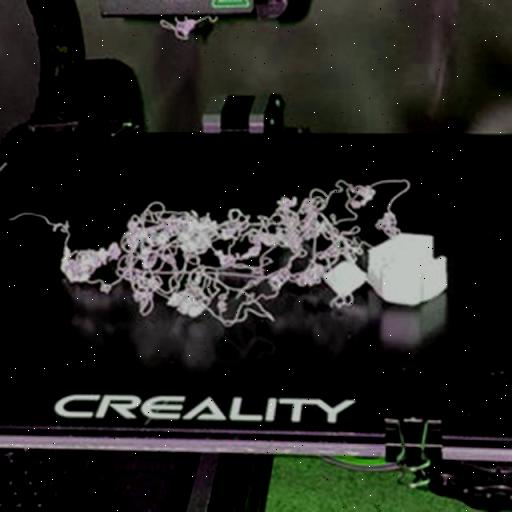spaghetti: (55, 174, 411, 326), (158, 12, 218, 41), (6, 210, 70, 236)
